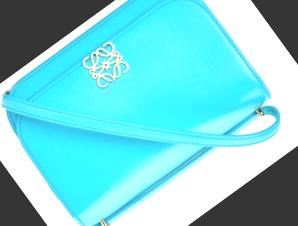LOEWE: (72, 34, 135, 96)
